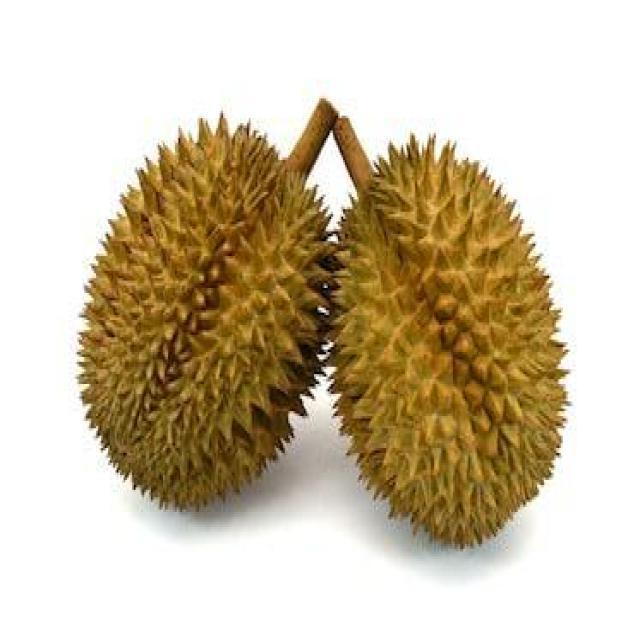mature: (80, 118, 330, 508), (332, 136, 566, 546)
